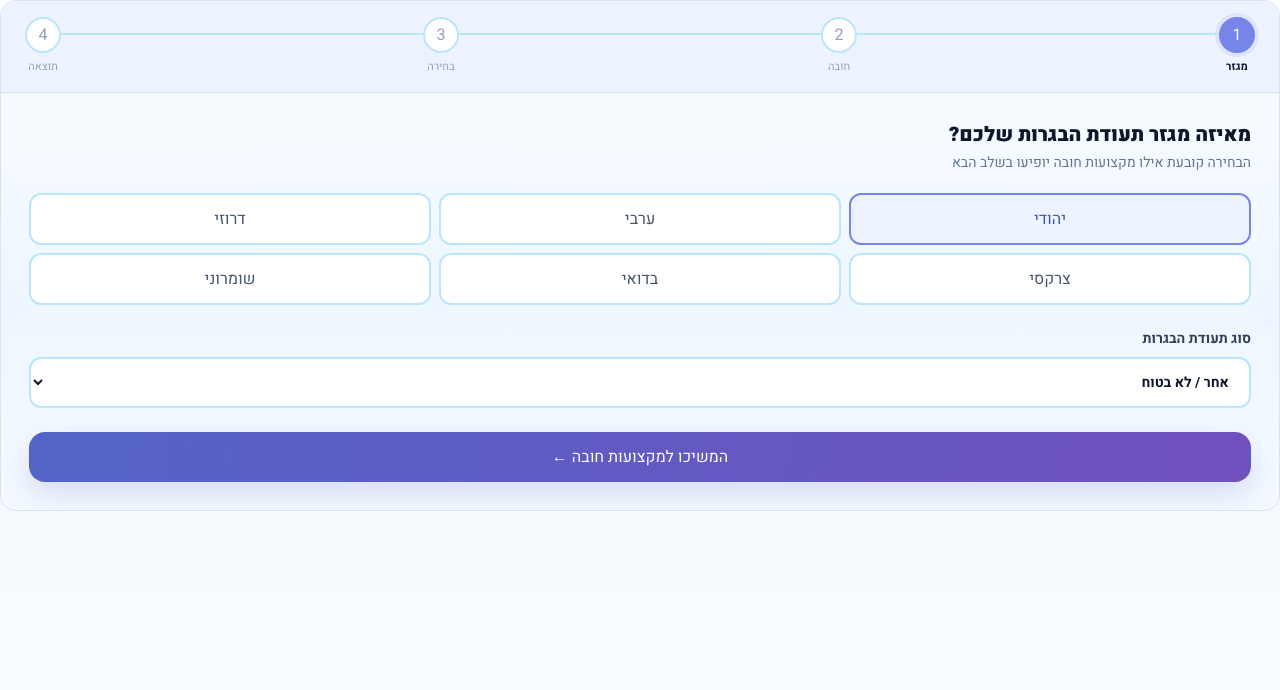
Test: new-row defaults in wizard › defaults Hebrew to 3 after selecting דרוזי
Click the button "דרוזי": (230, 218) [29,192,431,244]
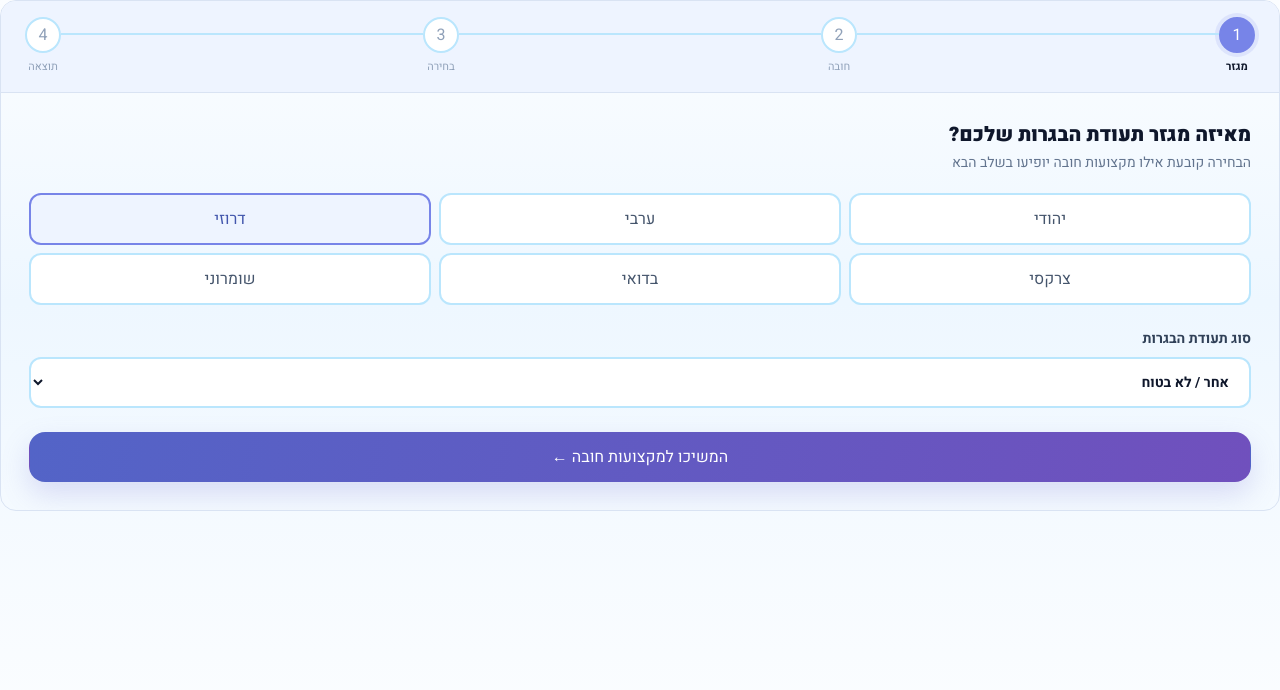
Click the button "המשיכו למקצועות חובה ←": (640, 456) [29,432,1251,482]
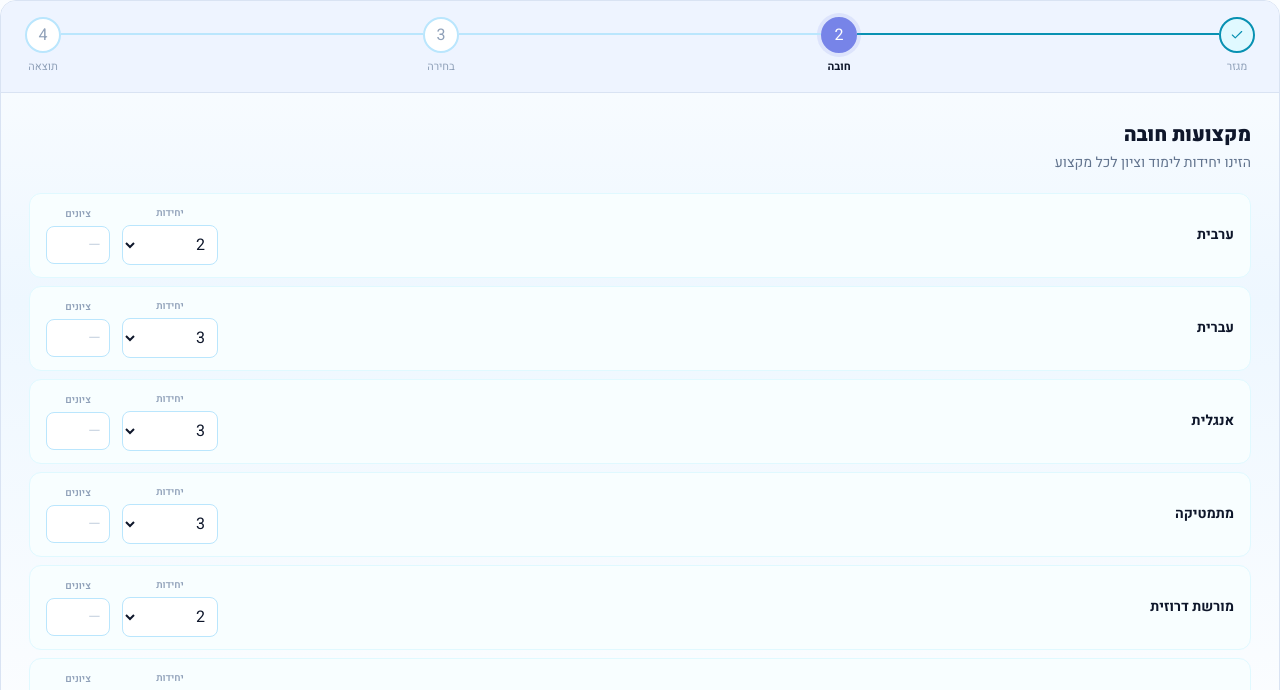
Result: the dropdown named "יחידות עברית" shows "3" at [122,318,218,358]
Result: the dropdown named "יחידות ערבית" shows "2" at [122,224,218,264]
